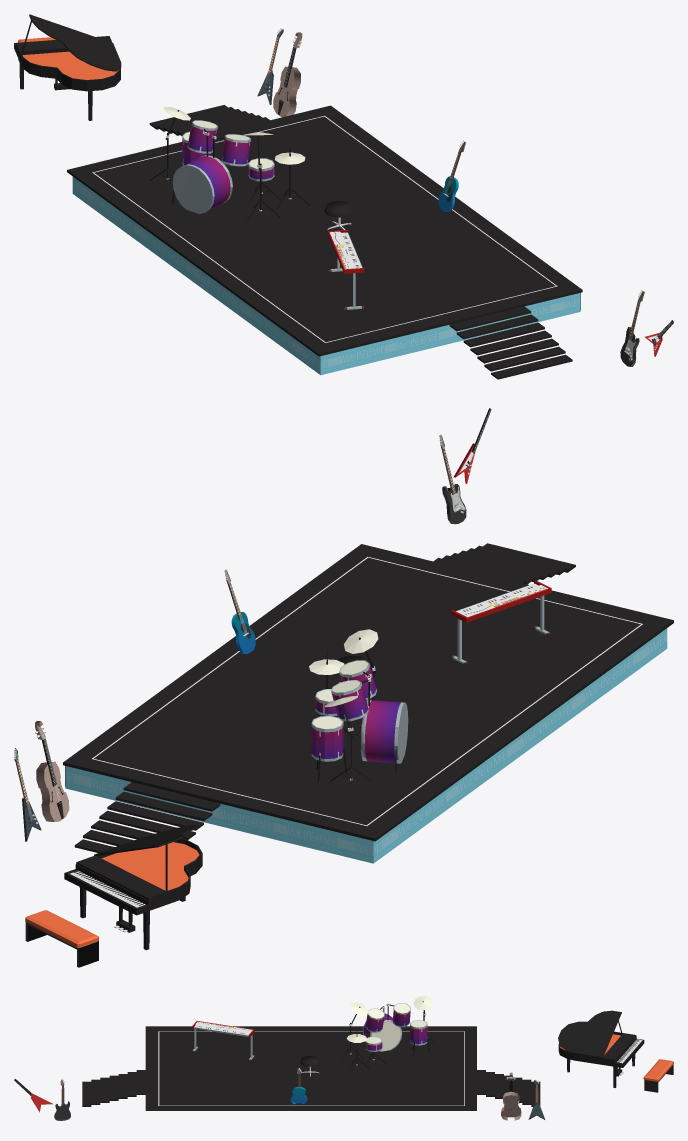
File: M_Twutai01.FBX
3 renders of one model, top to bottom at view 1: azimuth 30°, elevation 25°; view 2: azimuth 150°, elevation 25°; view 3: azimuth 270°, elevation 25°, orthographic. The views are drawn at different scales.
Visible parts, largest first — view 1: M_Twutai01_01, M_Twutai01_05, M_Twutai01_02, M_Twutai01_07, M_Twutai01_06, M_Twutai01_09, M_Twutai01_04; view 2: M_Twutai01_01, M_Twutai01_05, M_Twutai01_02, M_Twutai01_07, M_Twutai01_06, M_Twutai01_09, M_Twutai01_04; view 3: M_Twutai01_01, M_Twutai01_05, M_Twutai01_07, M_Twutai01_06, M_Twutai01_09, M_Twutai01_04.
Boxes of the visible parts, box(x1,y1,x2,y2) form: M_Twutai01_01: box(67, 105, 582, 379); M_Twutai01_05: box(149, 29, 673, 366); M_Twutai01_02: box(72, 176, 580, 375); M_Twutai01_07: box(14, 14, 121, 120); M_Twutai01_06: box(163, 28, 672, 360); M_Twutai01_09: box(92, 115, 557, 342); M_Twutai01_04: box(18, 37, 354, 217); M_Twutai01_01: box(63, 543, 673, 852); M_Twutai01_05: box(14, 408, 551, 841); M_Twutai01_02: box(65, 628, 667, 863); M_Twutai01_07: box(25, 825, 202, 967); M_Twutai01_06: box(14, 409, 547, 824); M_Twutai01_09: box(92, 557, 642, 825); M_Twutai01_04: box(25, 655, 370, 947); M_Twutai01_01: box(82, 1026, 540, 1110); M_Twutai01_05: box(14, 1001, 545, 1120); M_Twutai01_07: box(558, 1010, 673, 1092); M_Twutai01_06: box(14, 996, 539, 1083); M_Twutai01_09: box(158, 1031, 464, 1105); M_Twutai01_04: box(300, 1055, 673, 1081).
Bounding box in the file's own units: 6.95 × 2.65 × 22.74.
